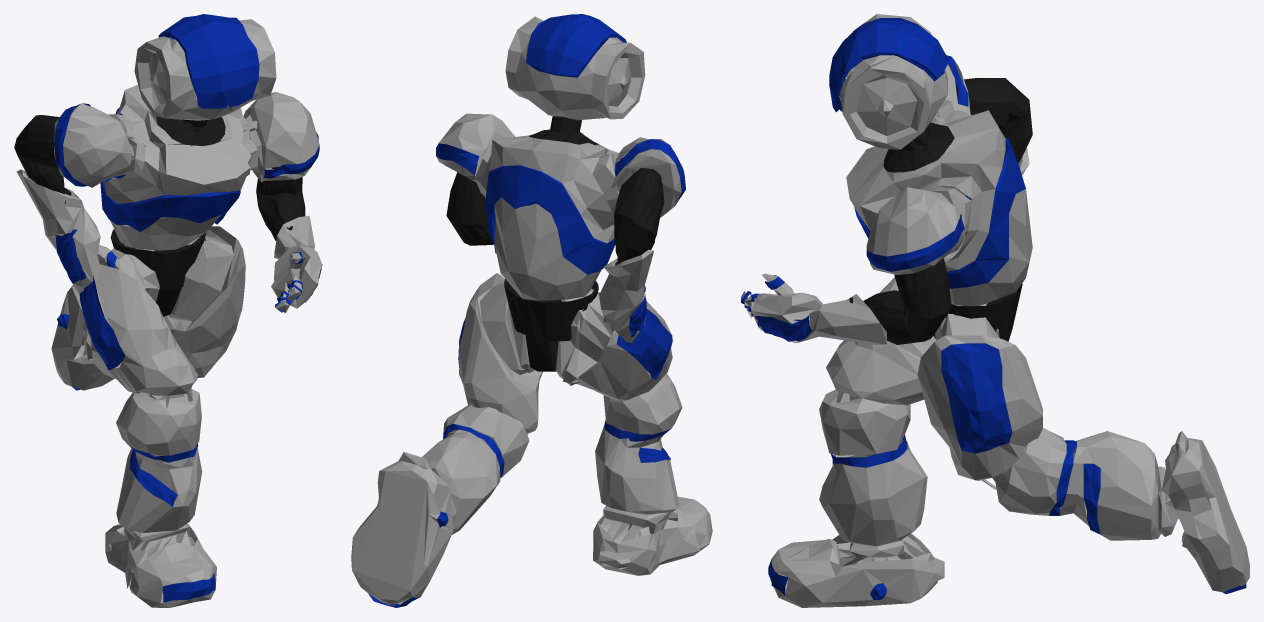
The model's file is run20.obj.
3 views of the same model, side by side, from view 1: azimuth 30°, elevation 25°; view 2: azimuth 150°, elevation 25°; view 3: azimuth 270°, elevation 25° (orthographic). The views are drawn at different scales.
Visible parts, largest first — view 1: Robot2.001_Robot2Mesh.000, Robot2_Robot2Mesh.004, Robot2.002_Robot2Mesh.001; view 2: Robot2.001_Robot2Mesh.000, Robot2_Robot2Mesh.004, Robot2.002_Robot2Mesh.001; view 3: Robot2.001_Robot2Mesh.000, Robot2_Robot2Mesh.004, Robot2.002_Robot2Mesh.001.
Boxes of the visible parts, <box> form: Robot2.001_Robot2Mesh.000: <box>16,19,322,607</box>; Robot2_Robot2Mesh.004: <box>54,14,321,602</box>; Robot2.002_Robot2Mesh.001: <box>14,115,305,316</box>; Robot2.001_Robot2Mesh.000: <box>351,16,712,605</box>; Robot2_Robot2Mesh.004: <box>368,14,685,607</box>; Robot2.002_Robot2Mesh.001: <box>446,116,664,371</box>; Robot2.001_Robot2Mesh.000: <box>741,14,1249,607</box>; Robot2_Robot2Mesh.004: <box>741,18,1246,599</box>; Robot2.002_Robot2Mesh.001: <box>849,78,1032,344</box>.
Size of the model in its own units: 0.97 by 1.96 by 1.5.
